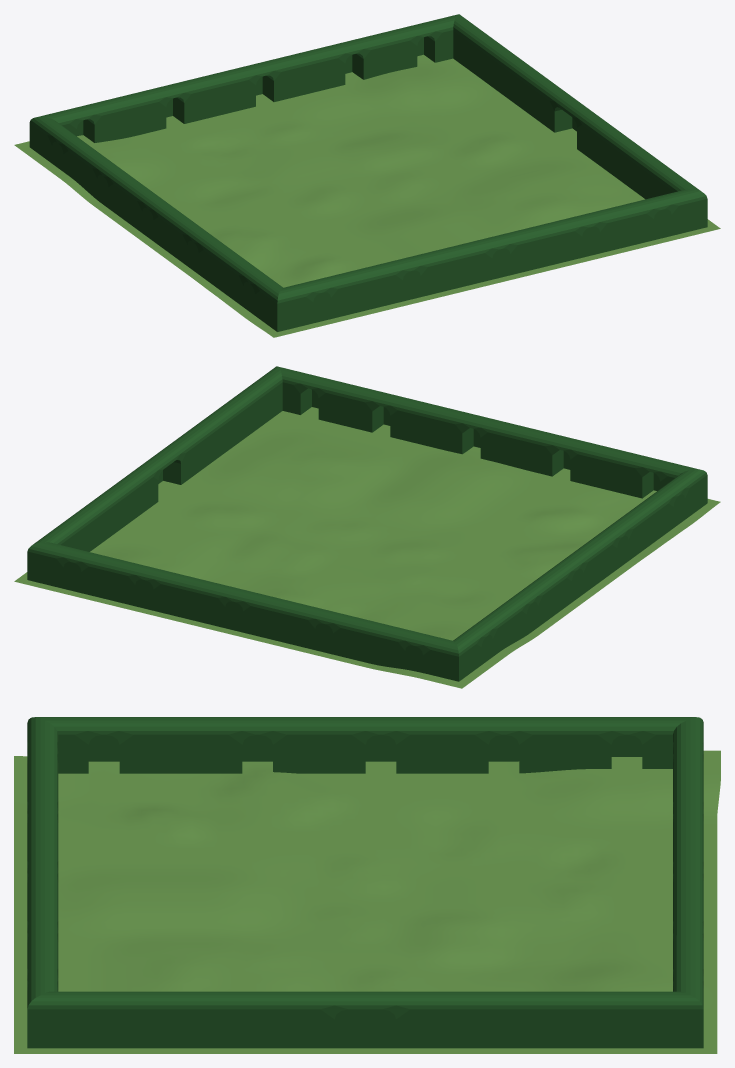
The model's file is Grass Lobby.fbx.
3 renders of one model, top to bottom at view 1: azimuth 30°, elevation 25°; view 2: azimuth 150°, elevation 25°; view 3: azimuth 270°, elevation 25°, orthographic. The views are drawn at different scales.
Visible parts, largest first — view 1: Floor.001, Walls 4.001; view 2: Floor.001, Walls 4.001; view 3: Floor.001, Walls 4.001.
Part boxes in pixels (x1,y1,x2,y2): Floor.001: (14,54,720,337); Walls 4.001: (29,14,707,331); Floor.001: (14,407,720,688); Walls 4.001: (27,366,707,681); Floor.001: (14,750,720,1053); Walls 4.001: (27,717,703,1048).
Size of the model in its own units: 3977 by 318 by 3981.
